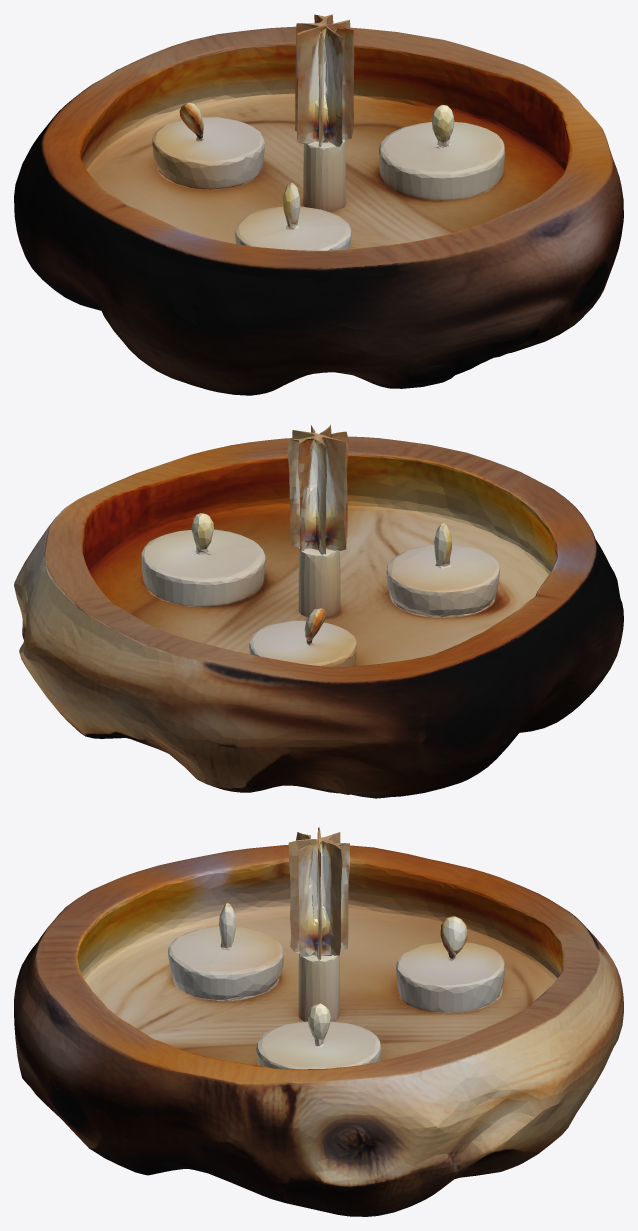
The model's file is wooden-candle-holder-rustic.jpeg.glb.
3 views of the same model, one above another, from view 1: azimuth 30°, elevation 25°; view 2: azimuth 150°, elevation 25°; view 3: azimuth 270°, elevation 25° (orthographic).
Parts seen in each view (by area): view 1: world; view 2: world; view 3: world.
Part boxes in pixels (x1,y1,x2,y2): world: (14,14,623,395); world: (14,425,623,798); world: (14,827,623,1216).
Size of the model in its own units: 0.964 by 0.5233 by 0.9991.
Materials: 1 (1 with a texture image).
